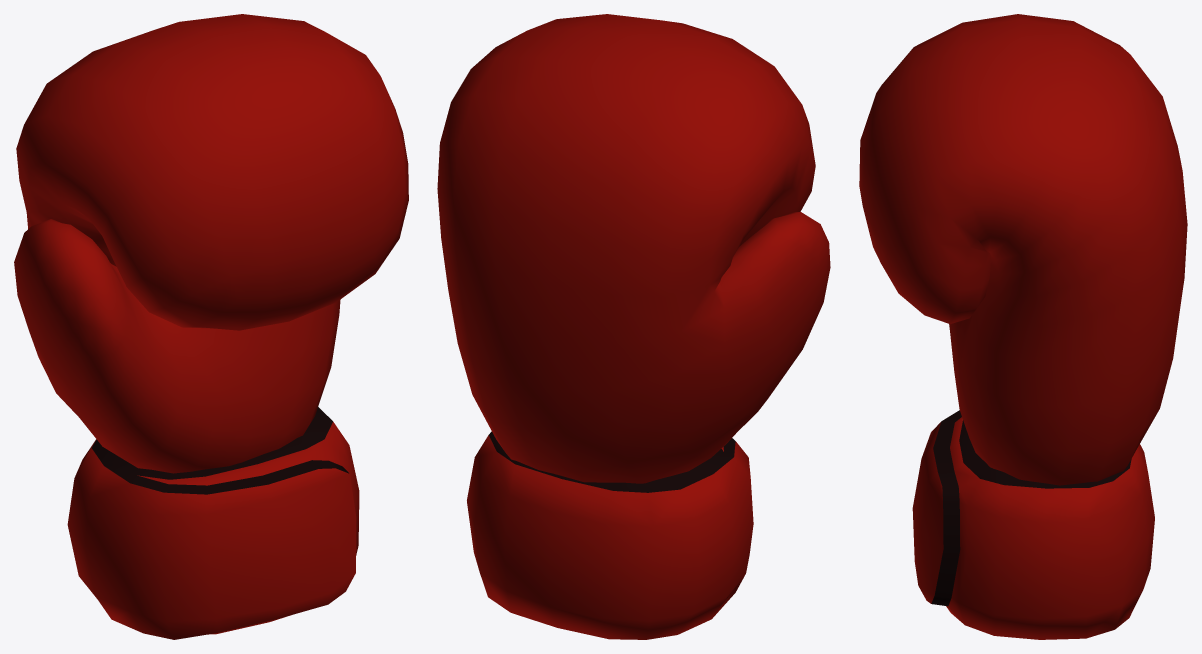
File: item_gloves.fbx
3 views of the same model, side by side, from view 1: azimuth 30°, elevation 25°; view 2: azimuth 150°, elevation 25°; view 3: azimuth 270°, elevation 25° (orthographic). The views are drawn at different scales.
Parts seen in each view (by area): view 1: item_gloves; view 2: item_gloves; view 3: item_gloves.
Boxes of the visible parts, box(x1,y1,x2,y2) form: item_gloves: box(14, 14, 408, 639); item_gloves: box(437, 14, 830, 639); item_gloves: box(859, 14, 1187, 639).
Size of the model in its own units: 1.13 by 1.79 by 0.9671.
